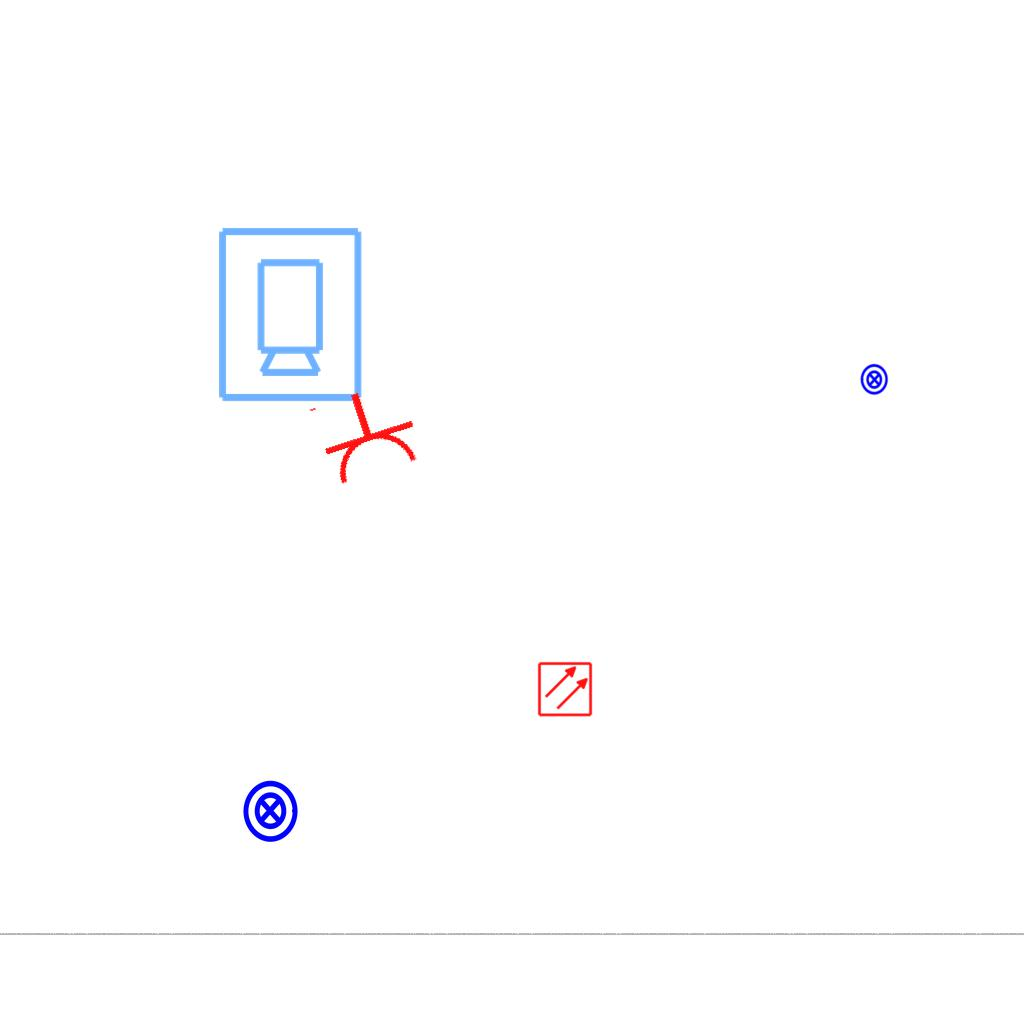KFO_Kamera_mit_Festobjektiv: (212, 223, 366, 405)
RMO_Rauchmelder_optischer: (537, 661, 593, 717)
Schukosteckdose_einfach: (304, 377, 427, 491)
Taster_beleuchtet: (237, 778, 303, 844), (858, 363, 891, 396)
